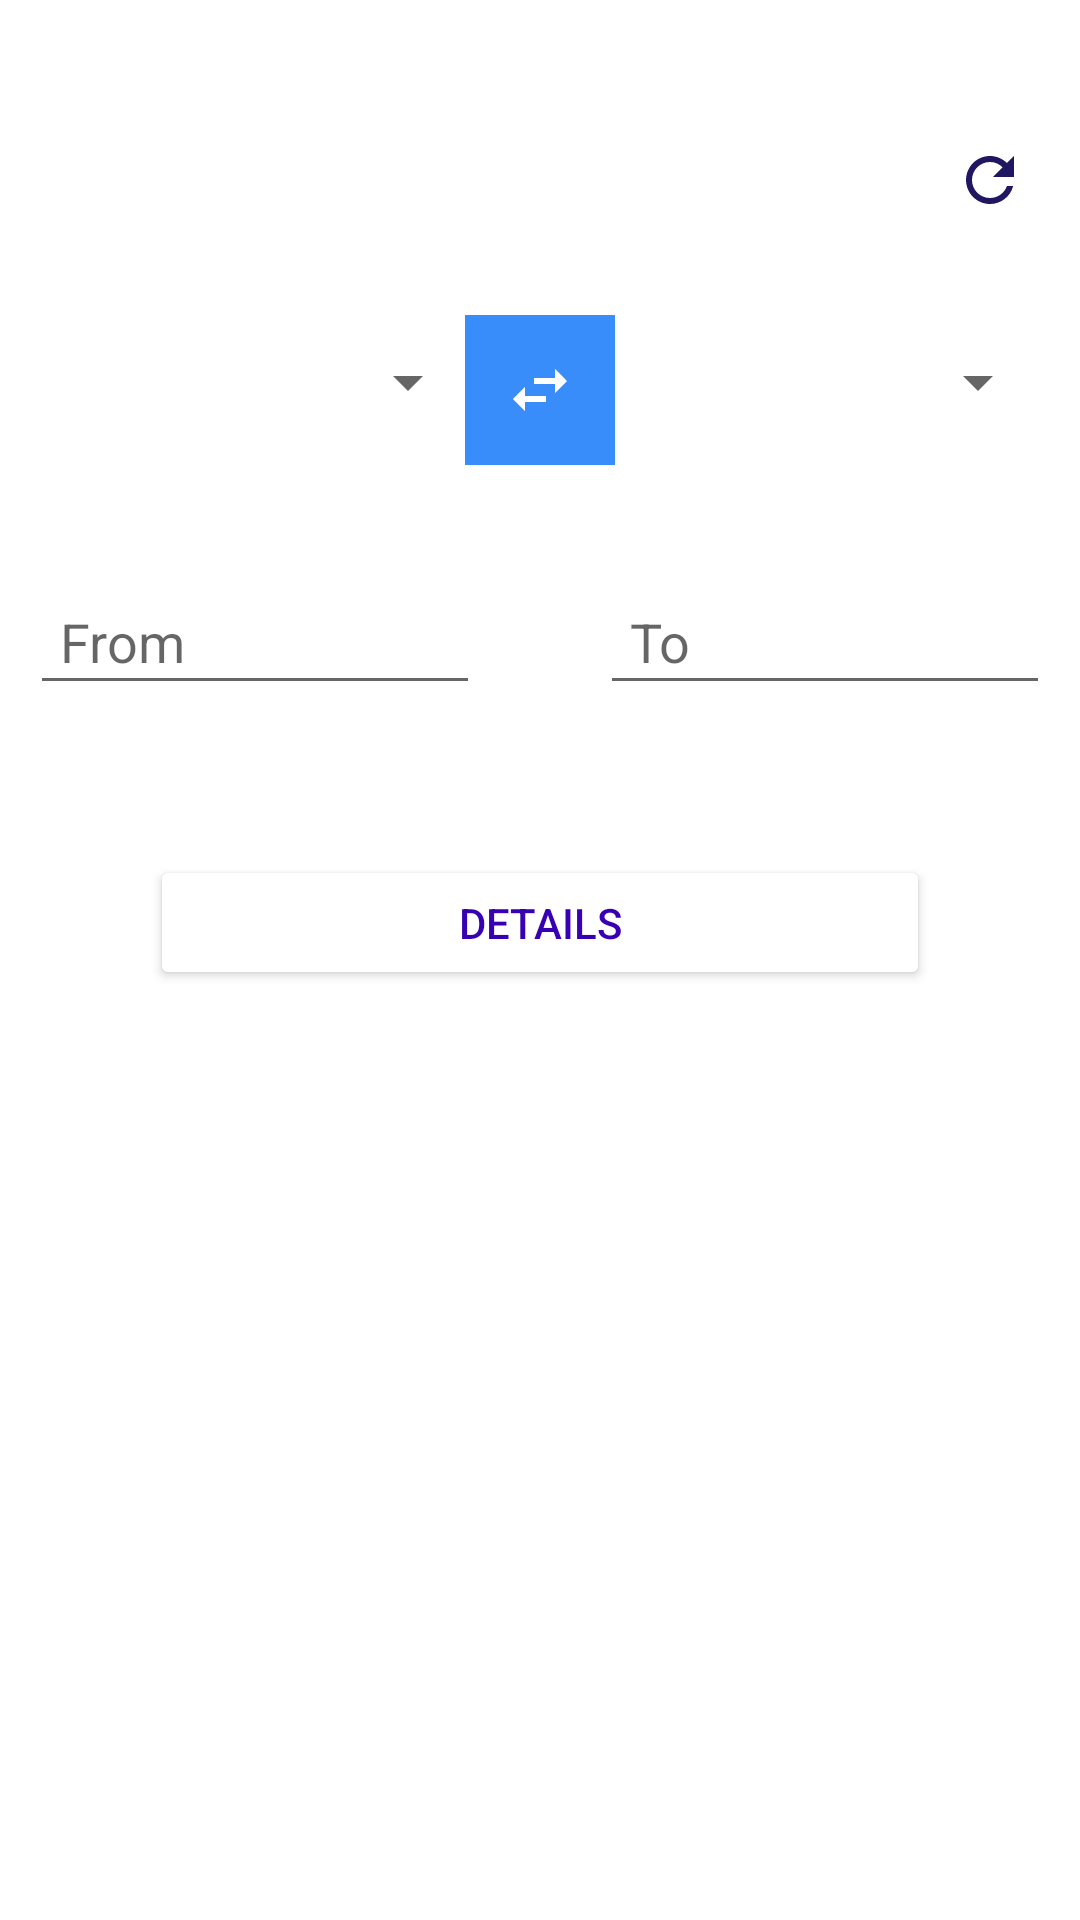

Screen size 1080×1920. Icon name, then its center in pixels as (x,y):
refresh: (990,180)
swap: (540,390)
